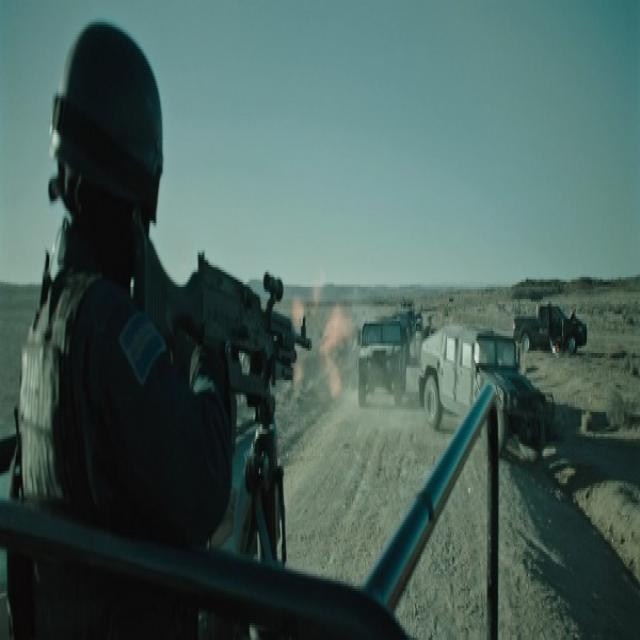rifle: (127, 215, 318, 401)
